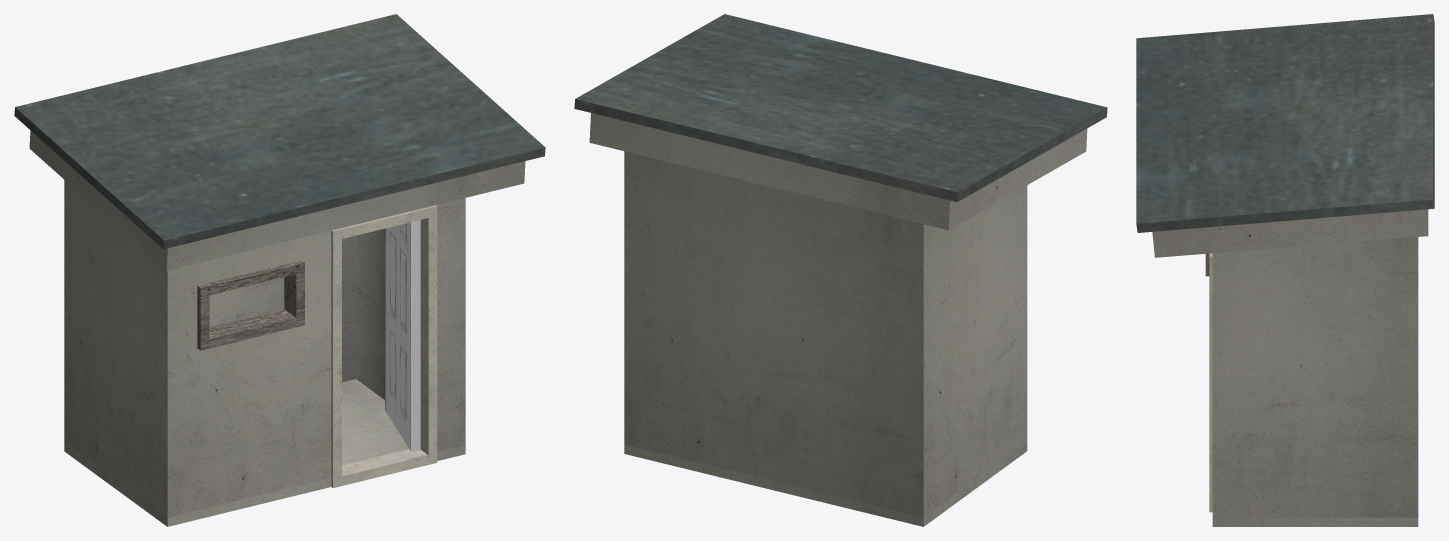
File: small house(close door).FBX
3 views of the same model, side by side, from view 1: azimuth 30°, elevation 25°; view 2: azimuth 150°, elevation 25°; view 3: azimuth 270°, elevation 25° (orthographic).
Parts seen in each view (by area): view 1: Box002, Box003; view 2: Box002; view 3: Box002.
Part boxes in pixels (x1,y1,x2,y2): Box002: (14,14,545,526); Box003: (385,220,420,451); Box002: (574,14,1107,526); Box002: (1136,14,1434,526).
Bounding box in the file's own units: 128 × 112 × 86.99.
